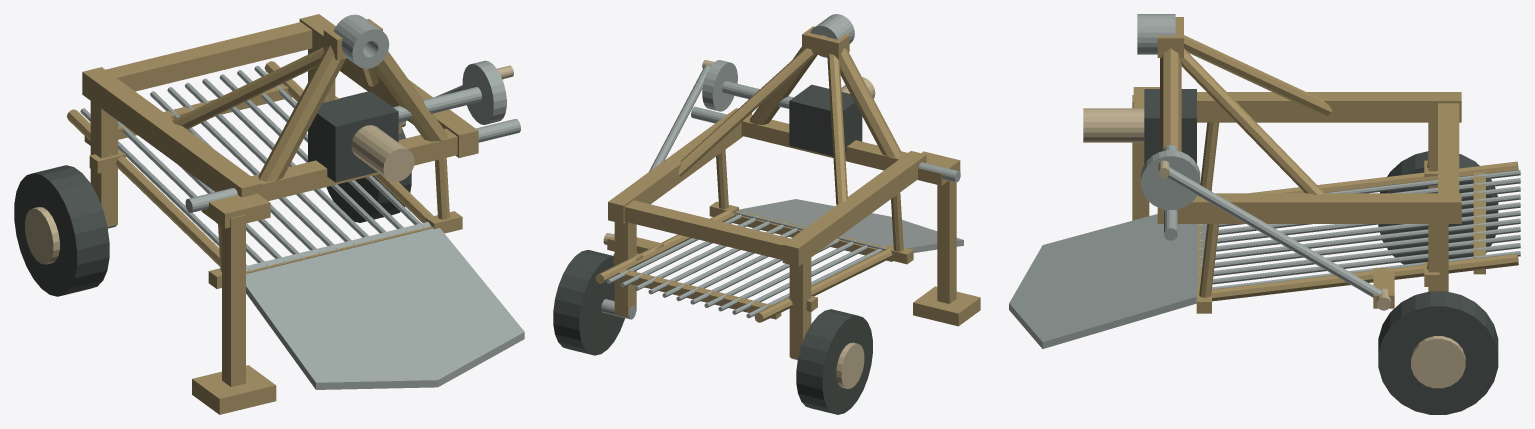
The picture shows the model from 3 angles, left to right: view 1: azimuth 30°, elevation 25°; view 2: azimuth 150°, elevation 25°; view 3: azimuth 270°, elevation 25°; orthographic projection. The views are drawn at different scales.
Parts seen in each view (by area): view 1: WholeBroadBentVFrontLiftingShare, WholeGroundedRearTyre0, WholeHighChassisSideRail0, WholeHighChassisCrossmember1, WholeCompactClosedGearbox, WholeFrontParkingLeg, WholeRaisedAttachmentArm0, WholeHighChassisCrossmember0, WholeHighChassisSideRail1, WholeAttachedFrontParkingSole, WholeRearAttachmentBrace0, WholeRearGaugeWheelCarrier0 (+28 smaller); view 2: WholeGroundedRearTyre0, WholeGroundedRearTyre1, WholeHighChassisSideRail0, WholeBroadBentVFrontLiftingShare, WholeHighChassisCrossmember1, WholeCompactClosedGearbox, WholeHighChassisSideRail1, WholeFrontParkingLeg, WholeRearAttachmentBrace1, WholeHighChassisCrossmember0, WholeRaisedAttachmentArm0, WholeRearAttachmentBrace0 (+30 smaller); view 3: WholeBroadBentVFrontLiftingShare, WholeGroundedRearTyre1, WholeHighChassisSideRail1, WholeHighChassisSideRail0, WholeInclinedGridSideRail1, WholeRearAttachmentBrace1, WholeLongFixedConnectingRod, WholeGroundedRearTyre0, WholeRightCrankDisc, WholeRearAttachmentBrace0, WholeProudRearWheelHub1, WholeCompactClosedGearbox (+23 smaller).
Boxes of the visible parts, x1,y1,x2,y2 form: WholeBroadBentVFrontLiftingShare: [246, 222, 524, 389]; WholeGroundedRearTyre0: [14, 165, 109, 296]; WholeHighChassisSideRail0: [82, 67, 261, 197]; WholeHighChassisCrossmember1: [106, 22, 312, 91]; WholeCompactClosedGearbox: [308, 91, 398, 182]; WholeFrontParkingLeg: [222, 214, 245, 386]; WholeRaisedAttachmentArm0: [258, 45, 345, 181]; WholeHighChassisCrossmember0: [251, 128, 457, 200]; WholeHighChassisSideRail1: [299, 14, 478, 157]; WholeAttachedFrontParkingSole: [192, 365, 276, 414]; WholeRearAttachmentBrace0: [172, 47, 324, 129]; WholeRearGaugeWheelCarrier0: [90, 101, 117, 226]; WholeGroundedRearTyre0: [796, 309, 872, 414]; WholeGroundedRearTyre1: [553, 250, 624, 355]; WholeHighChassisSideRail0: [782, 151, 926, 266]; WholeBroadBentVFrontLiftingShare: [734, 199, 963, 252]; WholeHighChassisCrossmember1: [624, 200, 790, 259]; WholeCompactClosedGearbox: [789, 84, 862, 155]; WholeHighChassisSideRail1: [608, 108, 751, 223]; WholeFrontParkingLeg: [937, 180, 956, 303]; WholeRearAttachmentBrace1: [678, 48, 815, 176]; WholeHighChassisCrossmember0: [741, 114, 907, 170]; WholeRaisedAttachmentArm0: [839, 47, 901, 157]; WholeRearAttachmentBrace0: [827, 54, 847, 204]; WholeBroadBentVFrontLiftingShare: [1009, 214, 1207, 348]; WholeGroundedRearTyre1: [1378, 291, 1498, 414]; WholeHighChassisSideRail1: [1157, 193, 1461, 223]; WholeHighChassisSideRail0: [1197, 92, 1461, 122]; WholeInclinedGridSideRail1: [1211, 253, 1518, 301]; WholeRearAttachmentBrace1: [1180, 48, 1324, 194]; WholeLongFixedConnectingRod: [1167, 167, 1382, 297]; WholeGroundedRearTyre0: [1378, 151, 1498, 273]; WholeRightCrankDisc: [1141, 150, 1200, 209]; WholeRearAttachmentBrace0: [1184, 35, 1331, 116]; WholeProudRearWheelHub1: [1411, 336, 1465, 388]; WholeCompactClosedGearbox: [1144, 89, 1196, 164].
Size of the model in its own units: 1.6 by 1.48 by 2.14.
